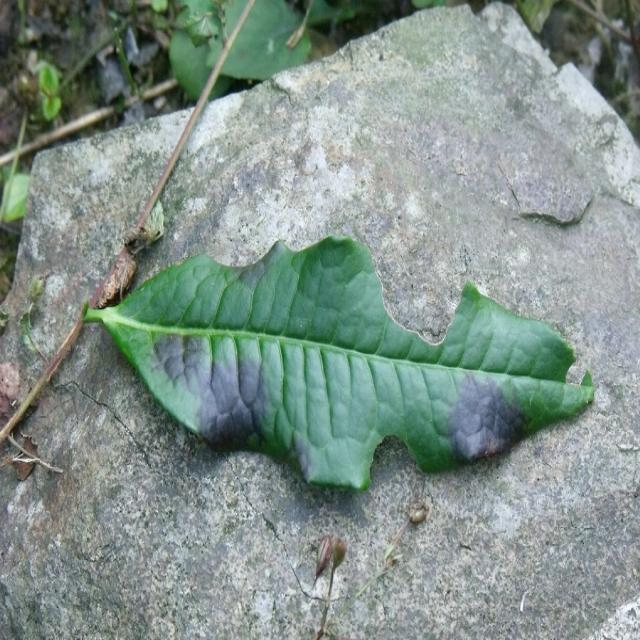Tea exobasidium blight: (160, 335, 270, 446), (450, 370, 530, 467)
